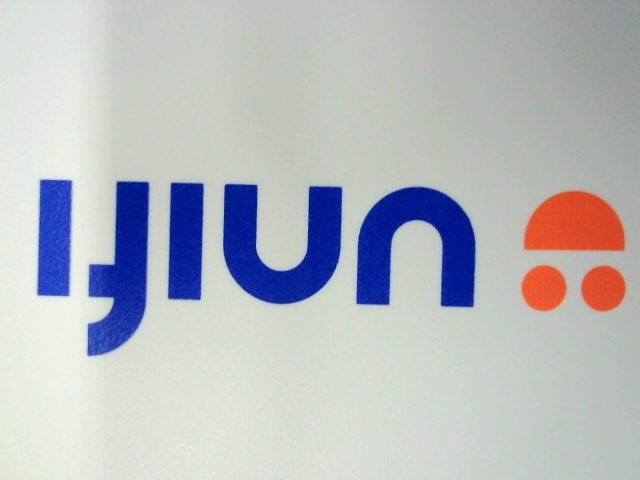BN_unifi: (23, 172, 629, 377)
